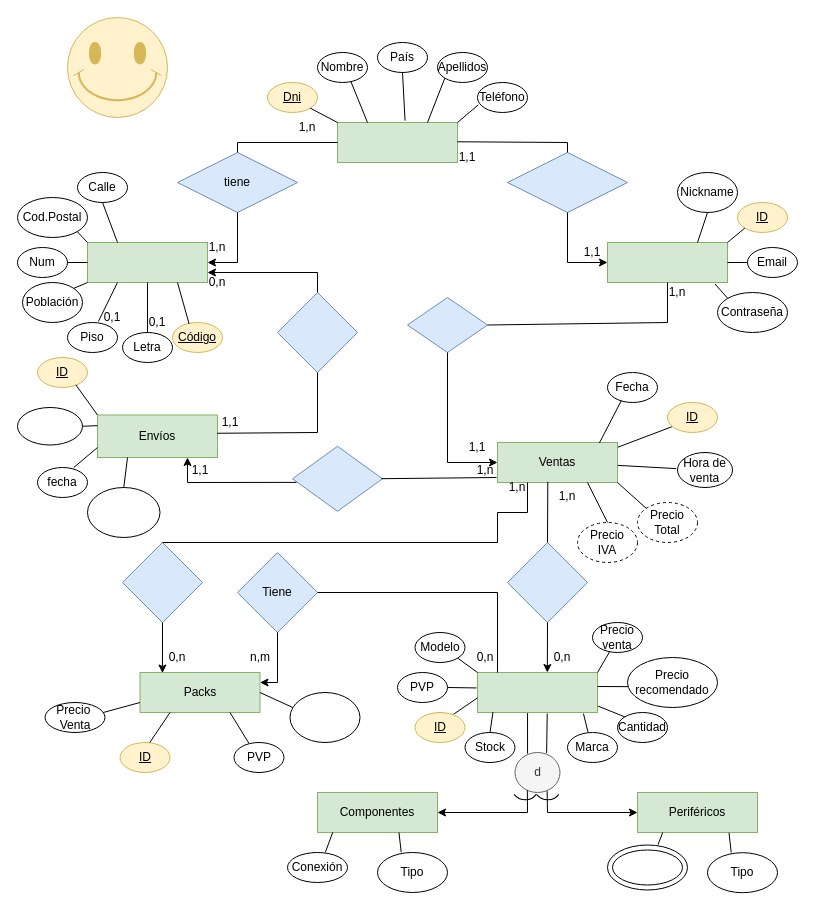
This 815x911 diagram has some shape labels left out. The shapes that lost their labels are listed below. From the top down, each one's centre as x and y in pixels, then its label:
At pixel 397 142: "Usuario".
At pixel 567 182: "realiza".
At pixel 147 262: "Direcciónes".
At pixel 667 262: "Login".
At pixel 317 332: "envía".
At pixel 447 324: "realizar".
At pixel 49 425: "compañia".
At pixel 337 478: "almacenan info".
At pixel 123 512: "descripcion".
At pixel 162 582: "contener".
At pixel 547 582: "contienen".
At pixel 537 692: "Productos".
At pixel 324 717: "Suma Productos".
At pixel 647 867: "Conexiones".
